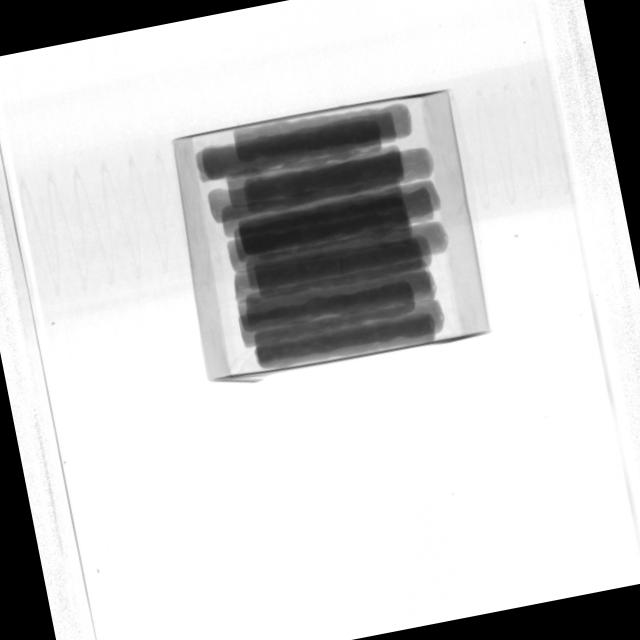ym: (338, 258, 346, 276)
